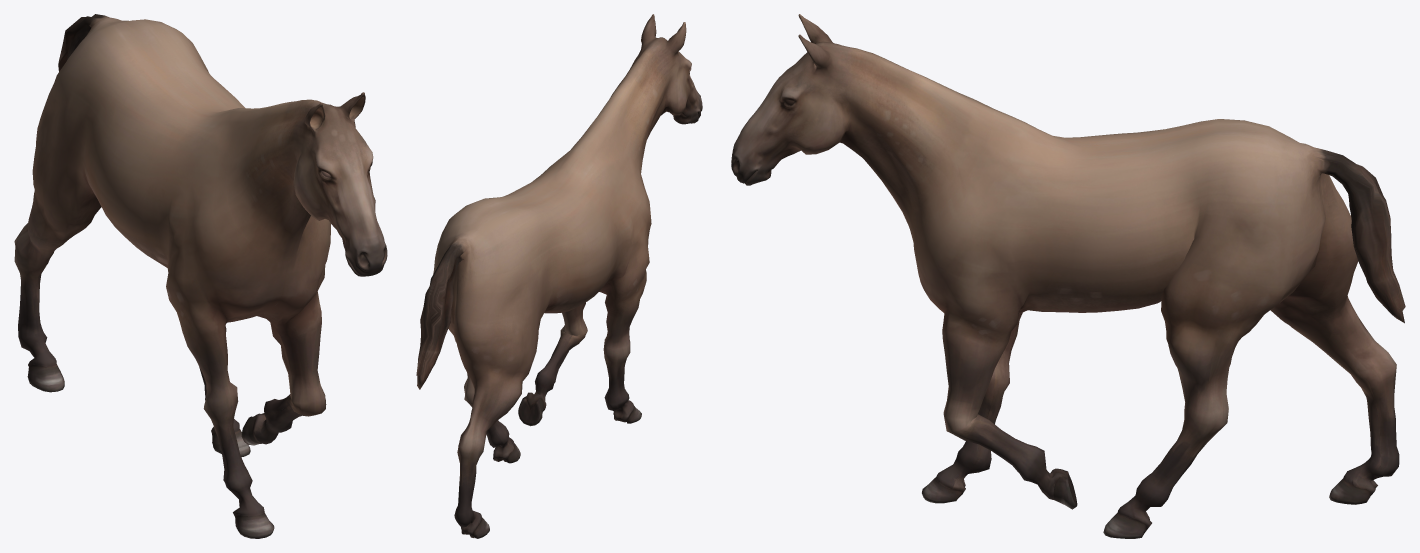
The model's file is horse.glb.
3 views of the same model, side by side, from view 1: azimuth 30°, elevation 25°; view 2: azimuth 150°, elevation 25°; view 3: azimuth 270°, elevation 25° (orthographic). The views are drawn at different scales.
Visible parts, largest first — view 1: HorseShape; view 2: HorseShape; view 3: HorseShape.
Part boxes in pixels (x1,y1,x2,y2): HorseShape: (14,14,387,538); HorseShape: (416,14,702,538); HorseShape: (731,14,1405,538).
Size of what is drawn, in the model's own units: 6.6 by 19.41 by 24.59.
Materials: 1 (1 with a texture image).
